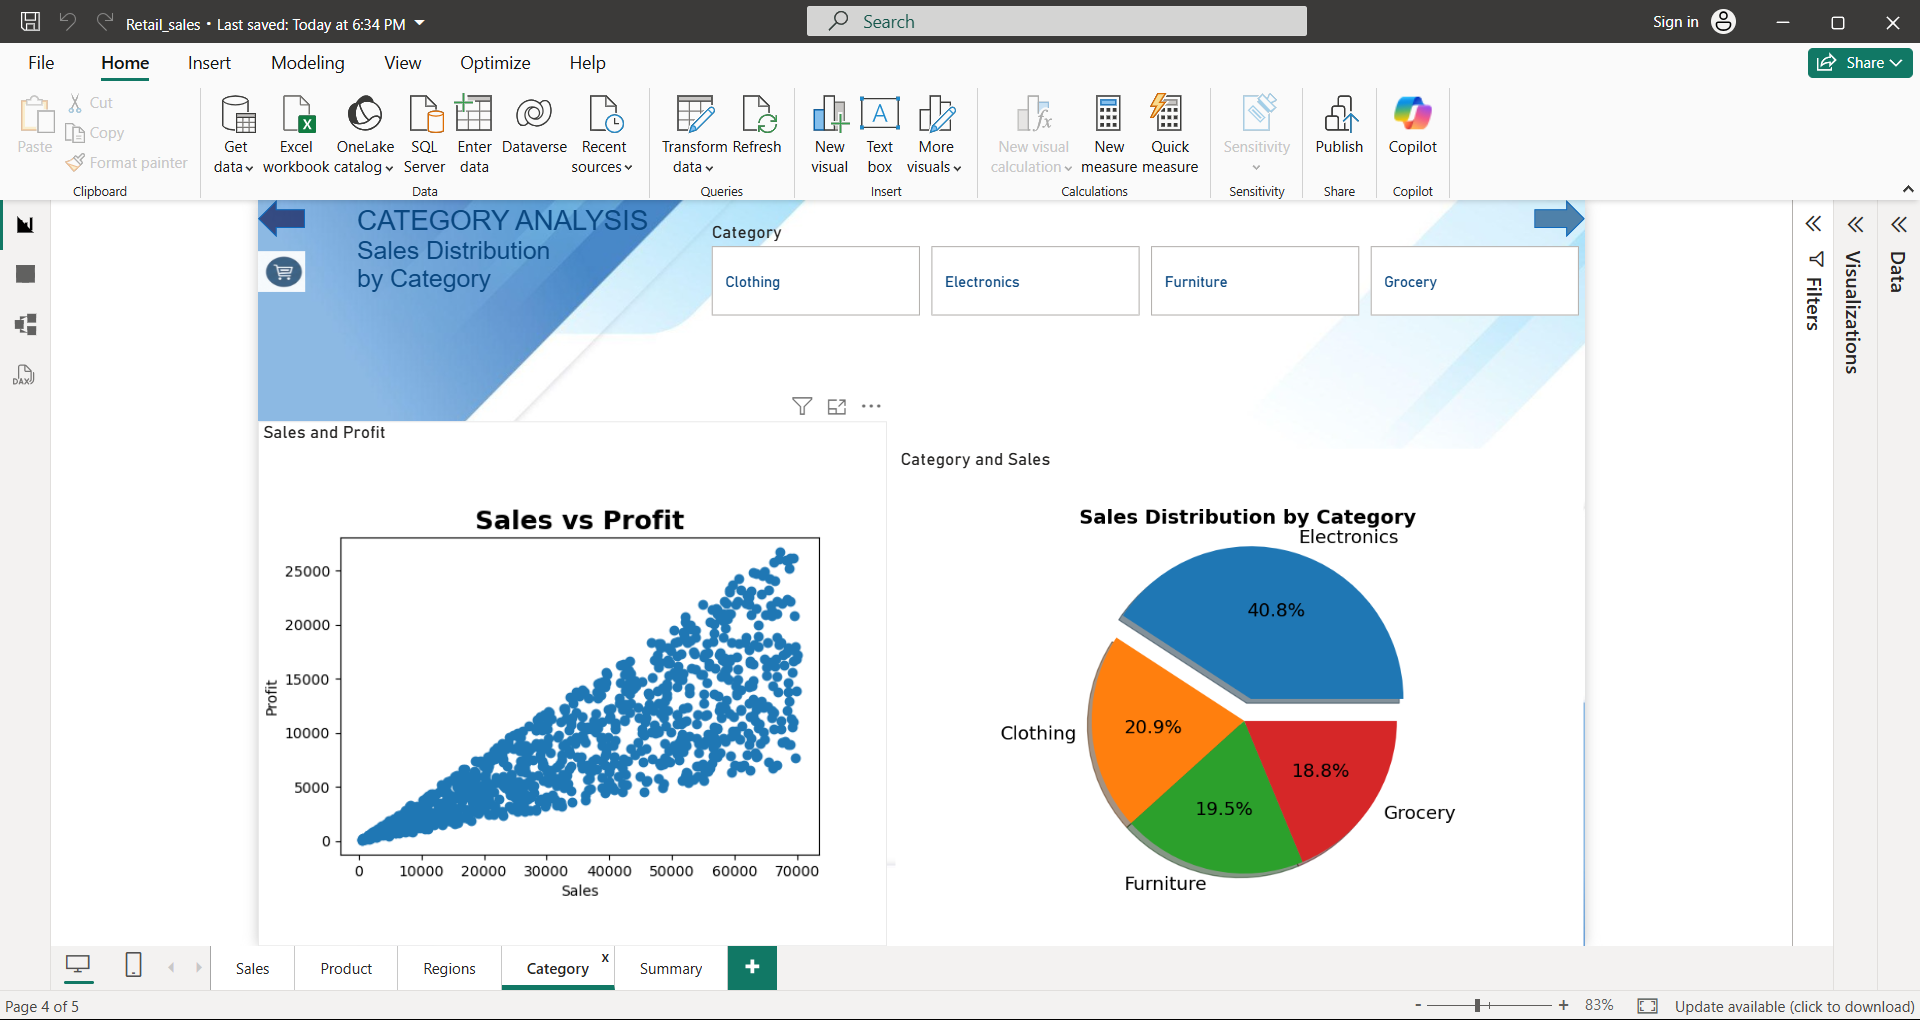

The page's visual inventory and layout, read from the dashboard file:
{"tool":"powerbi","page":{"name":"Category","canvas":[1280,720],"ordinal":3},"visuals":[{"type":"pythonVisual","fields":{"Values":["Retail_Sales_Analytics_Dataset.Category","Retail_Sales_Analytics_Dataset.Sales"]},"box":[615.7,240,664.3,480],"z":0},{"type":"pythonVisual","fields":{"Values":["Retail_Sales_Analytics_Dataset.Sales","Retail_Sales_Analytics_Dataset.Profit"]},"box":[0,213.6,606.4,506.6],"z":1000},{"type":"advancedSlicerVisual","fields":{"Values":["Retail_Sales_Analytics_Dataset.Category"]},"box":[432.6,20.9,847.7,96.5],"z":2000},{"type":"textbox","box":[90,0,410,140],"z":3000},{"type":"shape","box":[0,0,45.3,36],"z":4000},{"type":"shape","box":[1231.4,0,48.8,36],"z":5000},{"type":"actionButton","box":[0,50,45.3,39.5],"z":6000}]}

Visuals, with their boxes on the page's 1280x720 design canvas (x1, y1, x2, y2). These are canvas units, not pixel positions in the 1920x1020 screenshot, which may show the page scaled, cropped or inside an application window:
pythonVisual - Retail_Sales_Analytics_Dataset.Category x Retail_Sales_Analytics_Dataset.Sales: {"left": 616, "top": 240, "right": 1280, "bottom": 720}
pythonVisual - Retail_Sales_Analytics_Dataset.Sales x Retail_Sales_Analytics_Dataset.Profit: {"left": 0, "top": 214, "right": 606, "bottom": 720}
advancedSlicerVisual - Retail_Sales_Analytics_Dataset.Category: {"left": 433, "top": 21, "right": 1280, "bottom": 117}
textbox: {"left": 90, "top": 0, "right": 500, "bottom": 140}
shape: {"left": 0, "top": 0, "right": 45, "bottom": 36}
shape: {"left": 1231, "top": 0, "right": 1280, "bottom": 36}
actionButton: {"left": 0, "top": 50, "right": 45, "bottom": 90}
